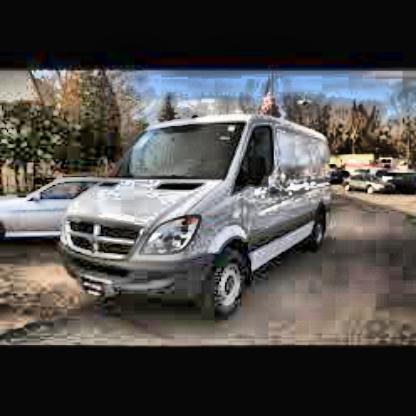Dodge Sprinter Cargo Van 2009: (50, 110, 341, 318)
